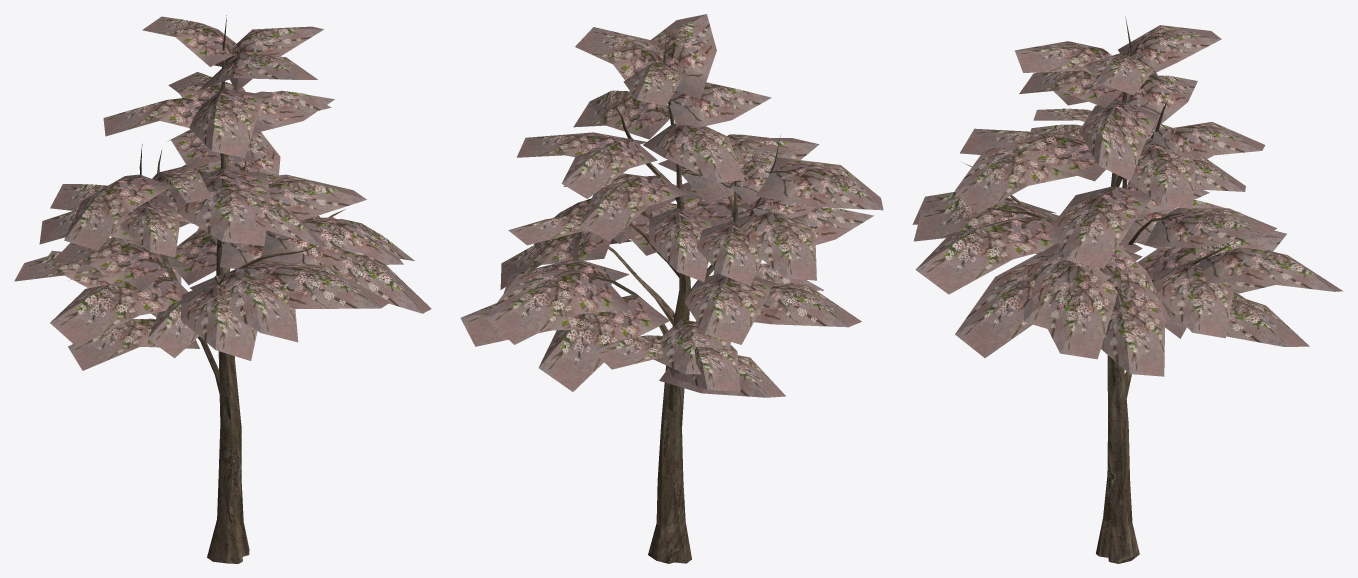
Rendered from bg_anh_tree_cherryblossomtree01c_sm_ysi.FBX.
The picture shows the model from 3 angles, left to right: view 1: azimuth 30°, elevation 25°; view 2: azimuth 150°, elevation 25°; view 3: azimuth 270°, elevation 25°; orthographic projection. The views are drawn at different scales.
Parts seen in each view (by area): view 1: bg_anh_tree_cherryblossomtree01c_sm_ysi; view 2: bg_anh_tree_cherryblossomtree01c_sm_ysi; view 3: bg_anh_tree_cherryblossomtree01c_sm_ysi.
Part boxes in pixels (x1,y1,x2,y2): bg_anh_tree_cherryblossomtree01c_sm_ysi: (14, 15, 431, 563); bg_anh_tree_cherryblossomtree01c_sm_ysi: (460, 14, 883, 563); bg_anh_tree_cherryblossomtree01c_sm_ysi: (912, 16, 1342, 563).
Bounding box in the file's own units: 296 × 427 × 308.
